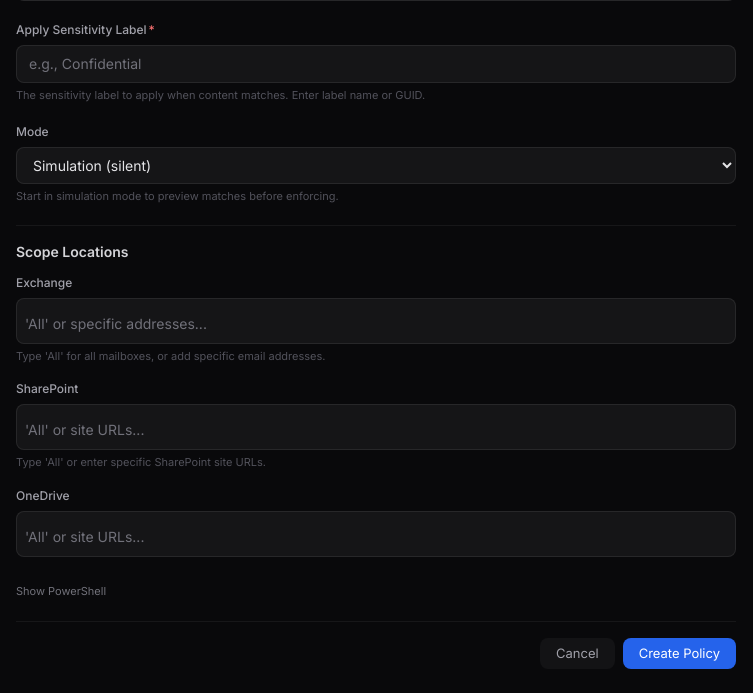
AutoLabelForm › New Policy mode › shows validation error when name is empty
(page scrolled)
Click the button "Create Policy".
click(679, 653)  # box x1=623 y1=638 x2=736 y2=669
(page scrolled)
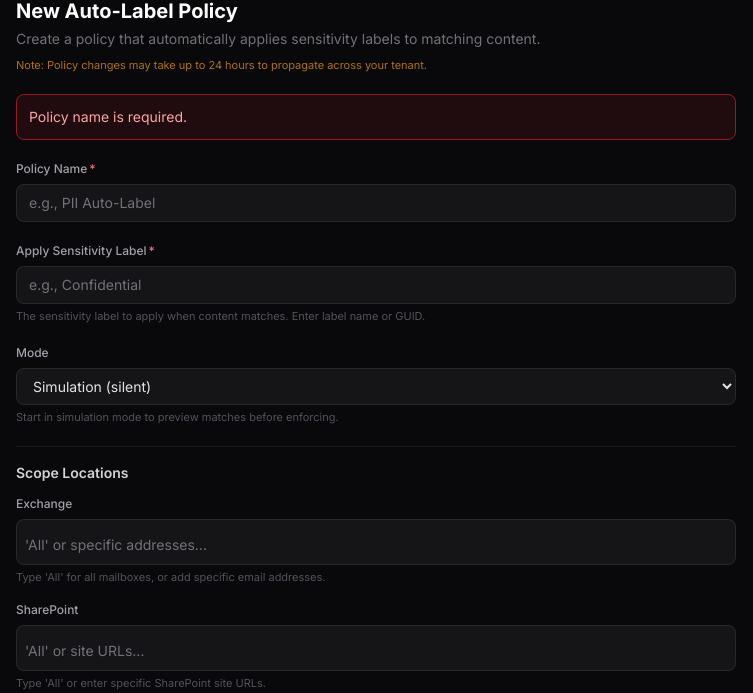
Check: the text "Policy name is required." is shown, box x1=16 y1=94 x2=736 y2=140
